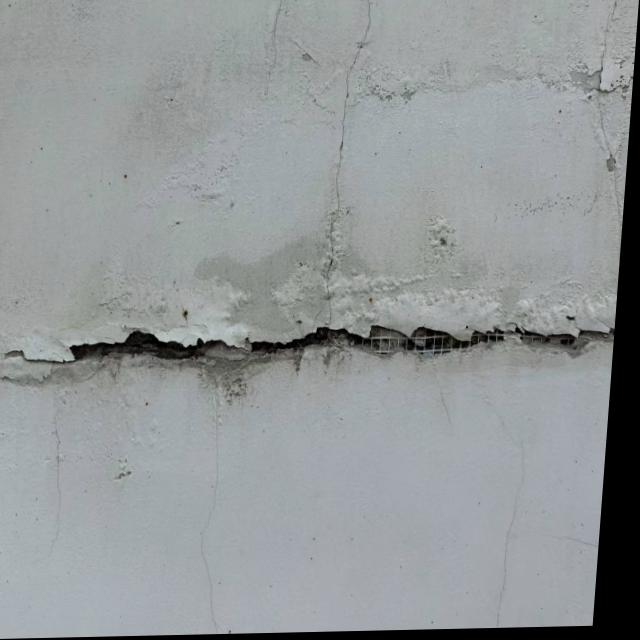crack: (326, 0, 376, 208), (193, 399, 228, 632), (492, 438, 531, 626), (41, 414, 70, 561)
spalling: (0, 259, 616, 397), (547, 48, 627, 107)
